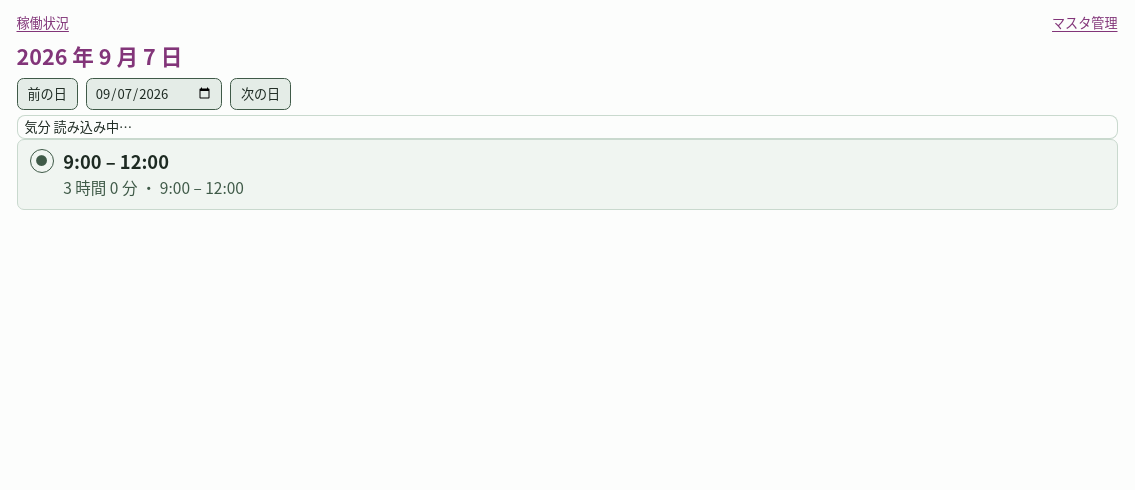
Scenario: 畳んだ行 › VS Code・Chrome・VS Code は 3 行。畳んだ行を開いた後に別の畳んだ行を開くと後のだけが開く
The width and height of the screenshot is (1135, 490).
Click the button "9:00 – 12:00 3 時間 0 分 ・ 9:00 – 12:00".
click(116, 161)  # box [63,149,1104,200]
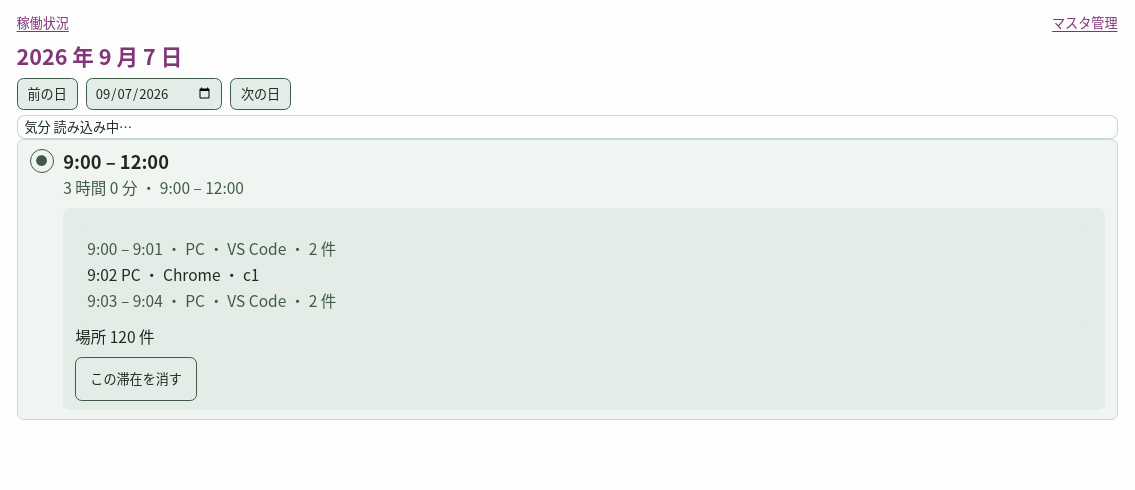
Now the list with test id "records" is shown, box [75,225,1092,323]
Now the number of buttons "9:00 – 9:01 ・ PC ・ VS Code ・ 2 件" is 2
Click the button "9:00 – 9:01 ・ PC ・ VS Code ・ 2 件".
click(212, 248)  # box [87,234,1080,261]
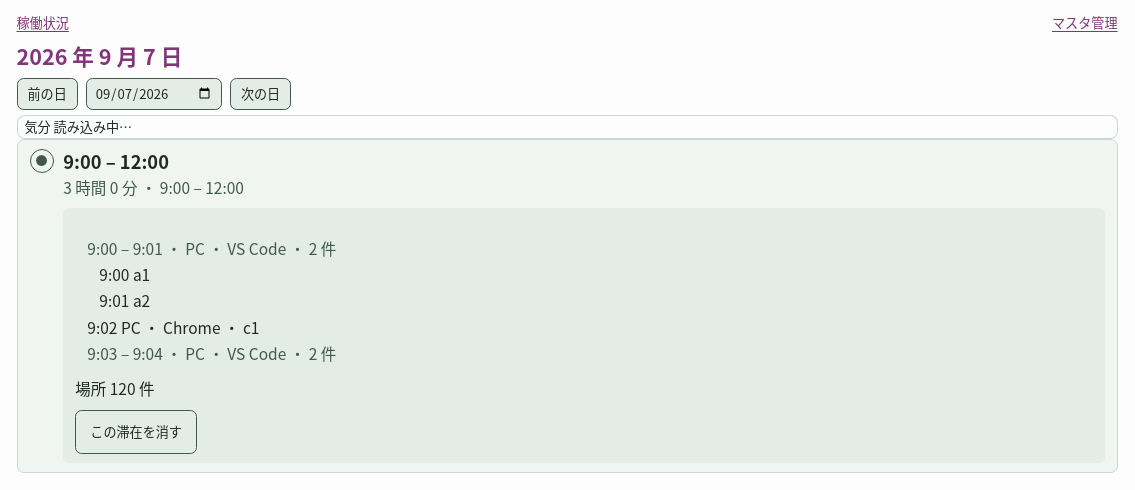
Now the number of lists with test id "fold-records" is 1, box [99,263,150,311]
Now the list with test id "fold-records" shows "a1", box [99,263,150,285]
Click the button "9:03 – 9:04 ・ PC ・ VS Code ・ 2 件".
click(212, 353)  # box [87,340,1080,366]
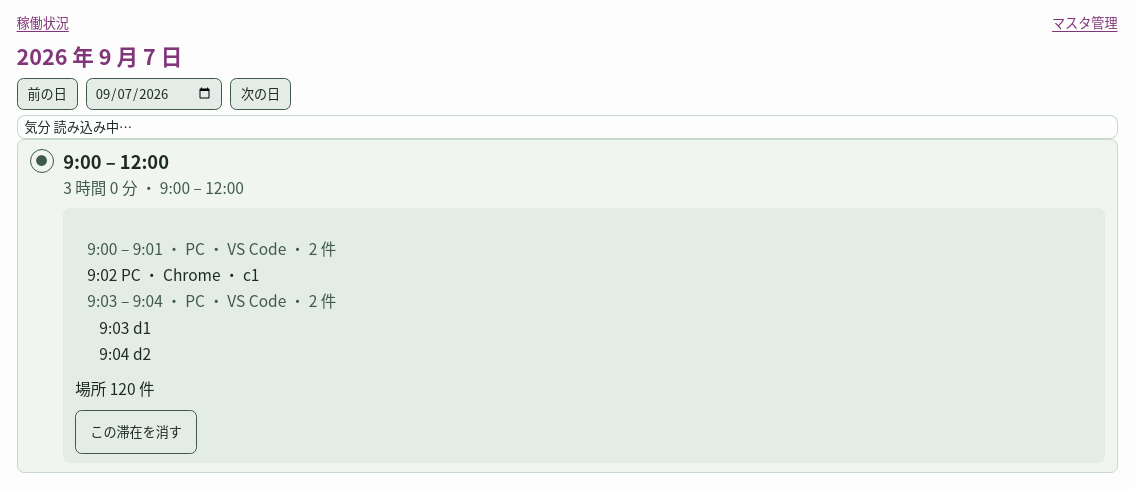
Now the number of lists with test id "fold-records" is 1, box [99,316,151,364]
Now the list with test id "fold-records" shows "d1", box [99,316,151,338]
Now the list item with test id "fold-records" no longer shows "a1"
